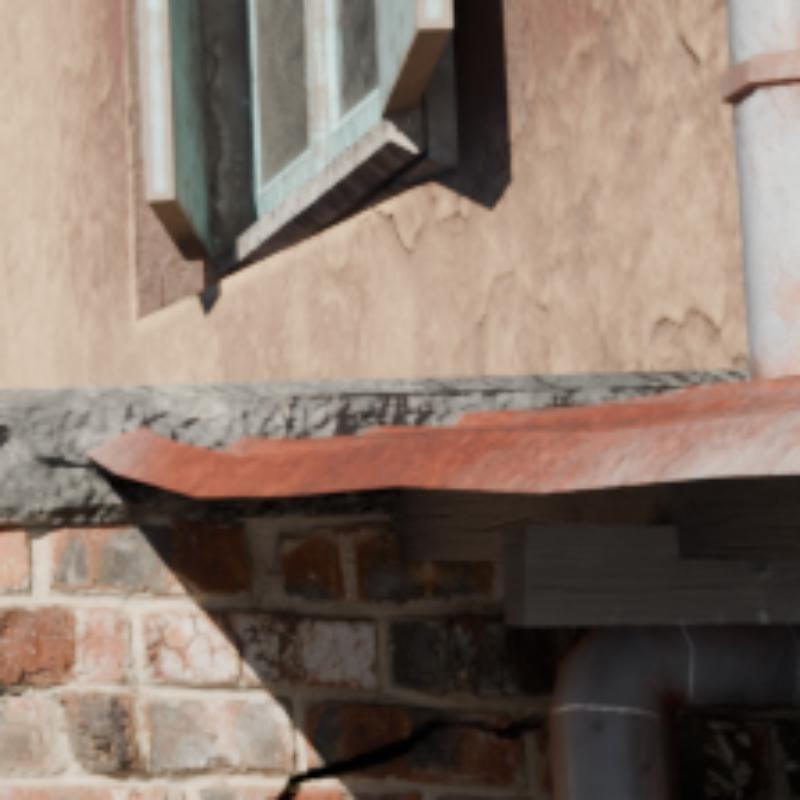pothole: (275, 711, 539, 796), (221, 611, 243, 675)
